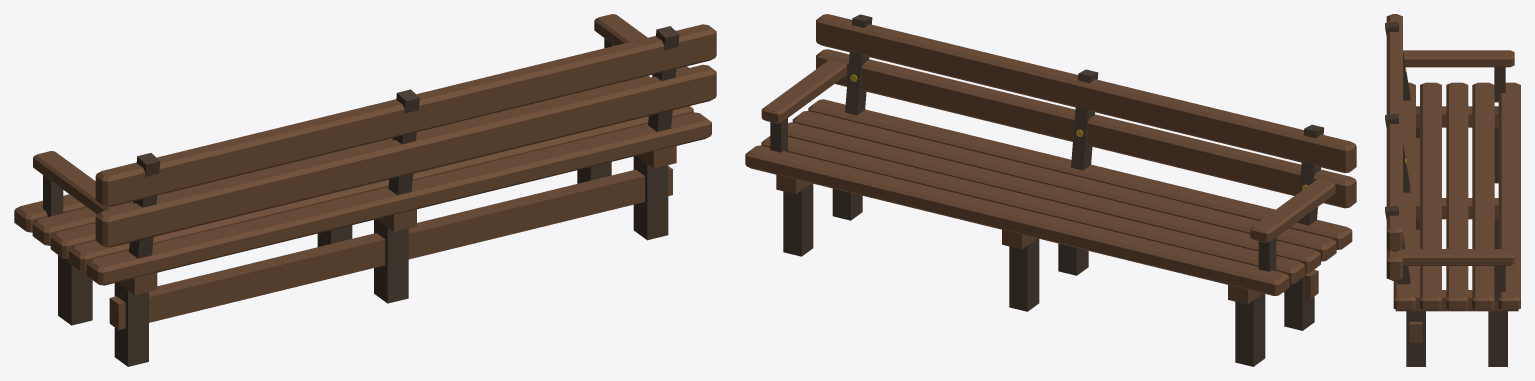
The model's file is A07_Exhibition_Bench.fbx.
3 renders of one model, left to right at view 1: azimuth 30°, elevation 25°; view 2: azimuth 150°, elevation 25°; view 3: azimuth 270°, elevation 25°, orthographic. The views are drawn at different scales.
Parts seen in each view (by area): view 1: Backrest, Structure, Seat, Armrests; view 2: Seat, Backrest, Structure, Armrests; view 3: Seat, Backrest, Armrests, Structure.
Boxes of the visible parts, x1=… form: Backrest: x1=95, y1=24, x2=716, y2=258; Structure: x1=58, y1=145, x2=676, y2=366; Seat: x1=14, y1=75, x2=711, y2=285; Armrests: x1=33, y1=14, x2=688, y2=216; Seat: x1=745, y1=99, x2=1352, y2=295; Backrest: x1=816, y1=14, x2=1356, y2=225; Structure: x1=776, y1=74, x2=1318, y2=366; Armrests: x1=761, y1=59, x2=1335, y2=271; Seat: x1=1393, y1=82, x2=1520, y2=310; Backrest: x1=1385, y1=14, x2=1410, y2=284; Armrests: x1=1402, y1=50, x2=1514, y2=300; Structure: x1=1395, y1=67, x2=1518, y2=366.
Bounding box in the file's own units: 3.6 × 1.2 × 0.95.
